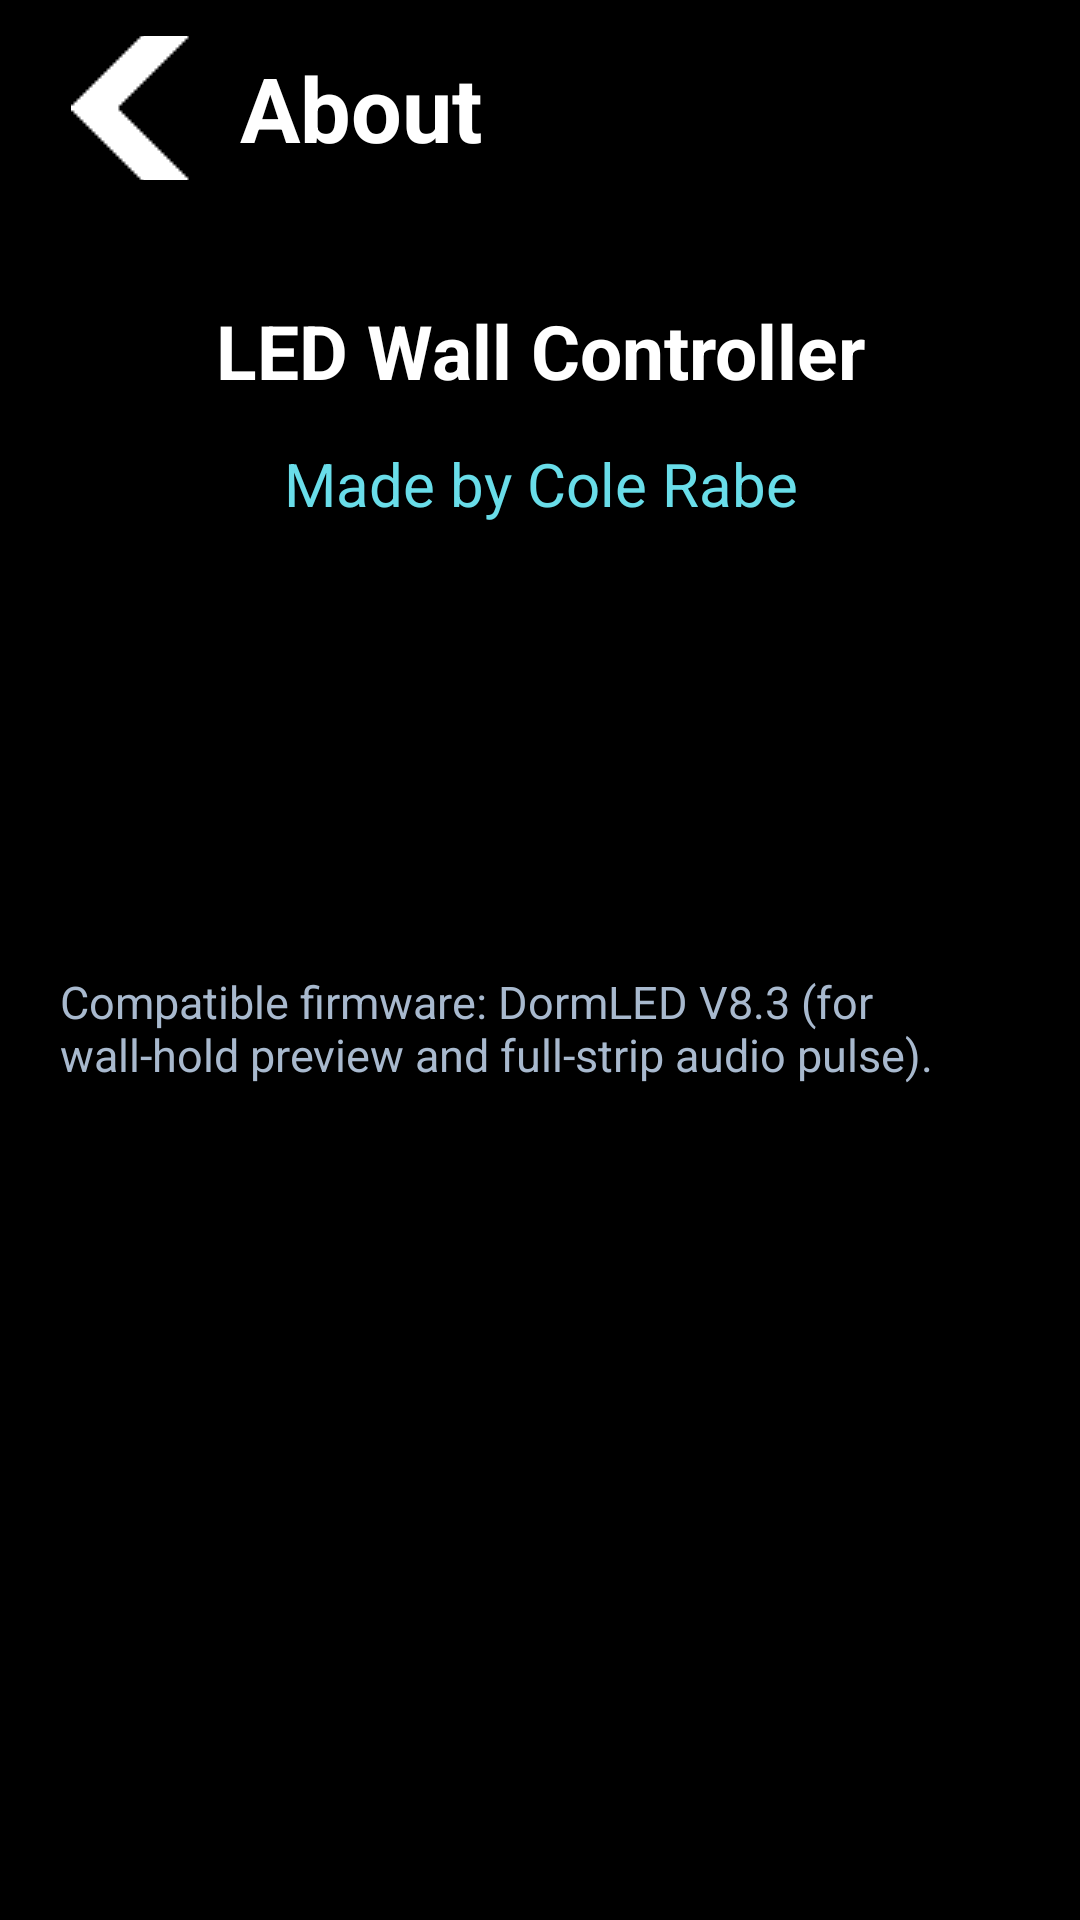

Screen size 1080w x 1920h. Icon name, then its box in pixels as (x1,y1,x2,y2):
Back to Settings: (71,36,189,180)
